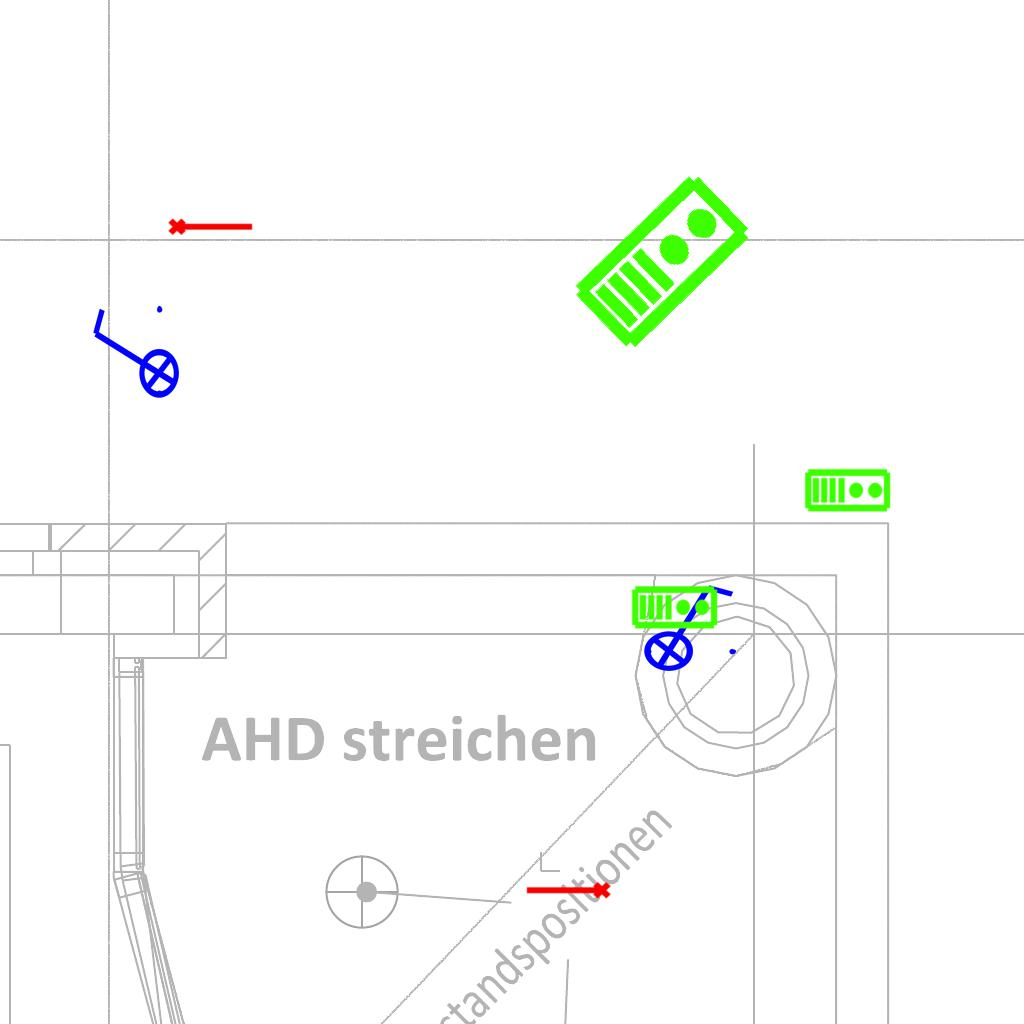ASR_Ansaugoeffnung: (167, 214, 255, 237), (524, 880, 612, 903)
Ausschalter_beleuchtet: (85, 300, 181, 412), (630, 577, 742, 673)
Gegensprechanlage_mit_Video: (565, 164, 758, 356), (804, 466, 892, 513), (631, 583, 719, 630)
